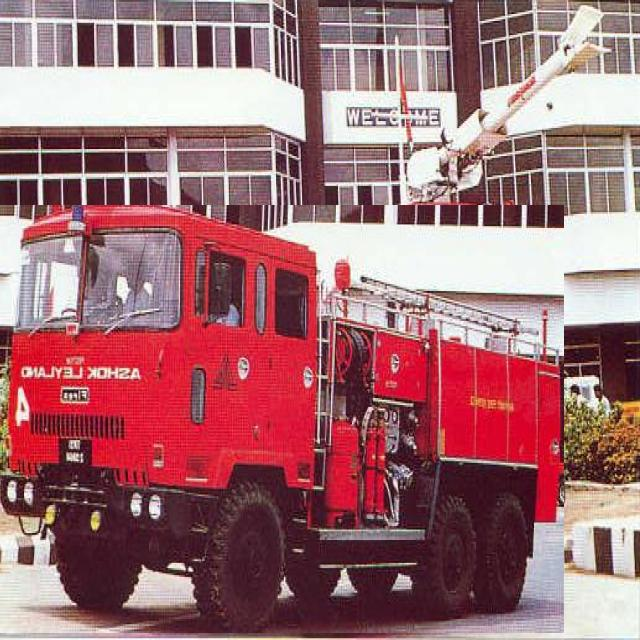emergency: (0, 206, 564, 633)
